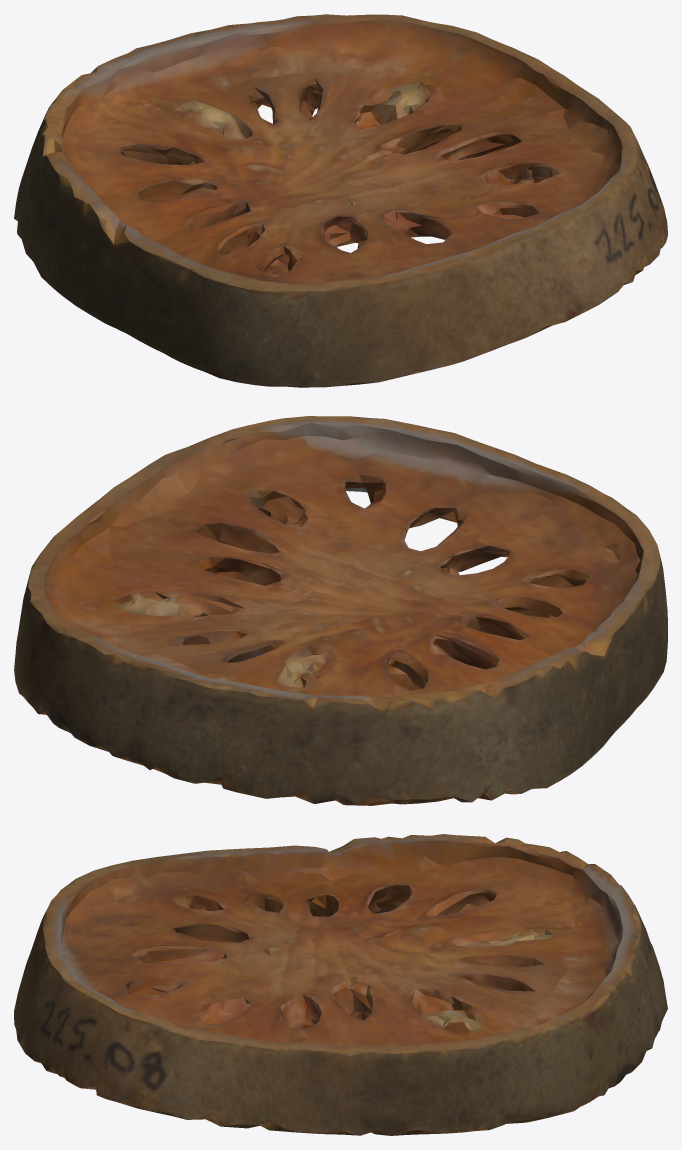
Rendered from quince slice (Cydonia oblonga) 225.08_FBX_still.fbx.
3 views of the same model, one above another, from view 1: azimuth 30°, elevation 25°; view 2: azimuth 150°, elevation 25°; view 3: azimuth 270°, elevation 25° (orthographic). The views are drawn at different scales.
Parts seen in each view (by area): view 1: quince slice (Cydonia oblonga) 225.08_gameasset; view 2: quince slice (Cydonia oblonga) 225.08_gameasset; view 3: quince slice (Cydonia oblonga) 225.08_gameasset.
Boxes of the visible parts, bbox=[...] form: quince slice (Cydonia oblonga) 225.08_gameasset: bbox=[14, 14, 667, 387]; quince slice (Cydonia oblonga) 225.08_gameasset: bbox=[14, 416, 667, 805]; quince slice (Cydonia oblonga) 225.08_gameasset: bbox=[14, 834, 667, 1135].
Size of the model in its own units: 63.61 by 15.77 by 71.89.
Materials: 1 (1 with a texture image).
